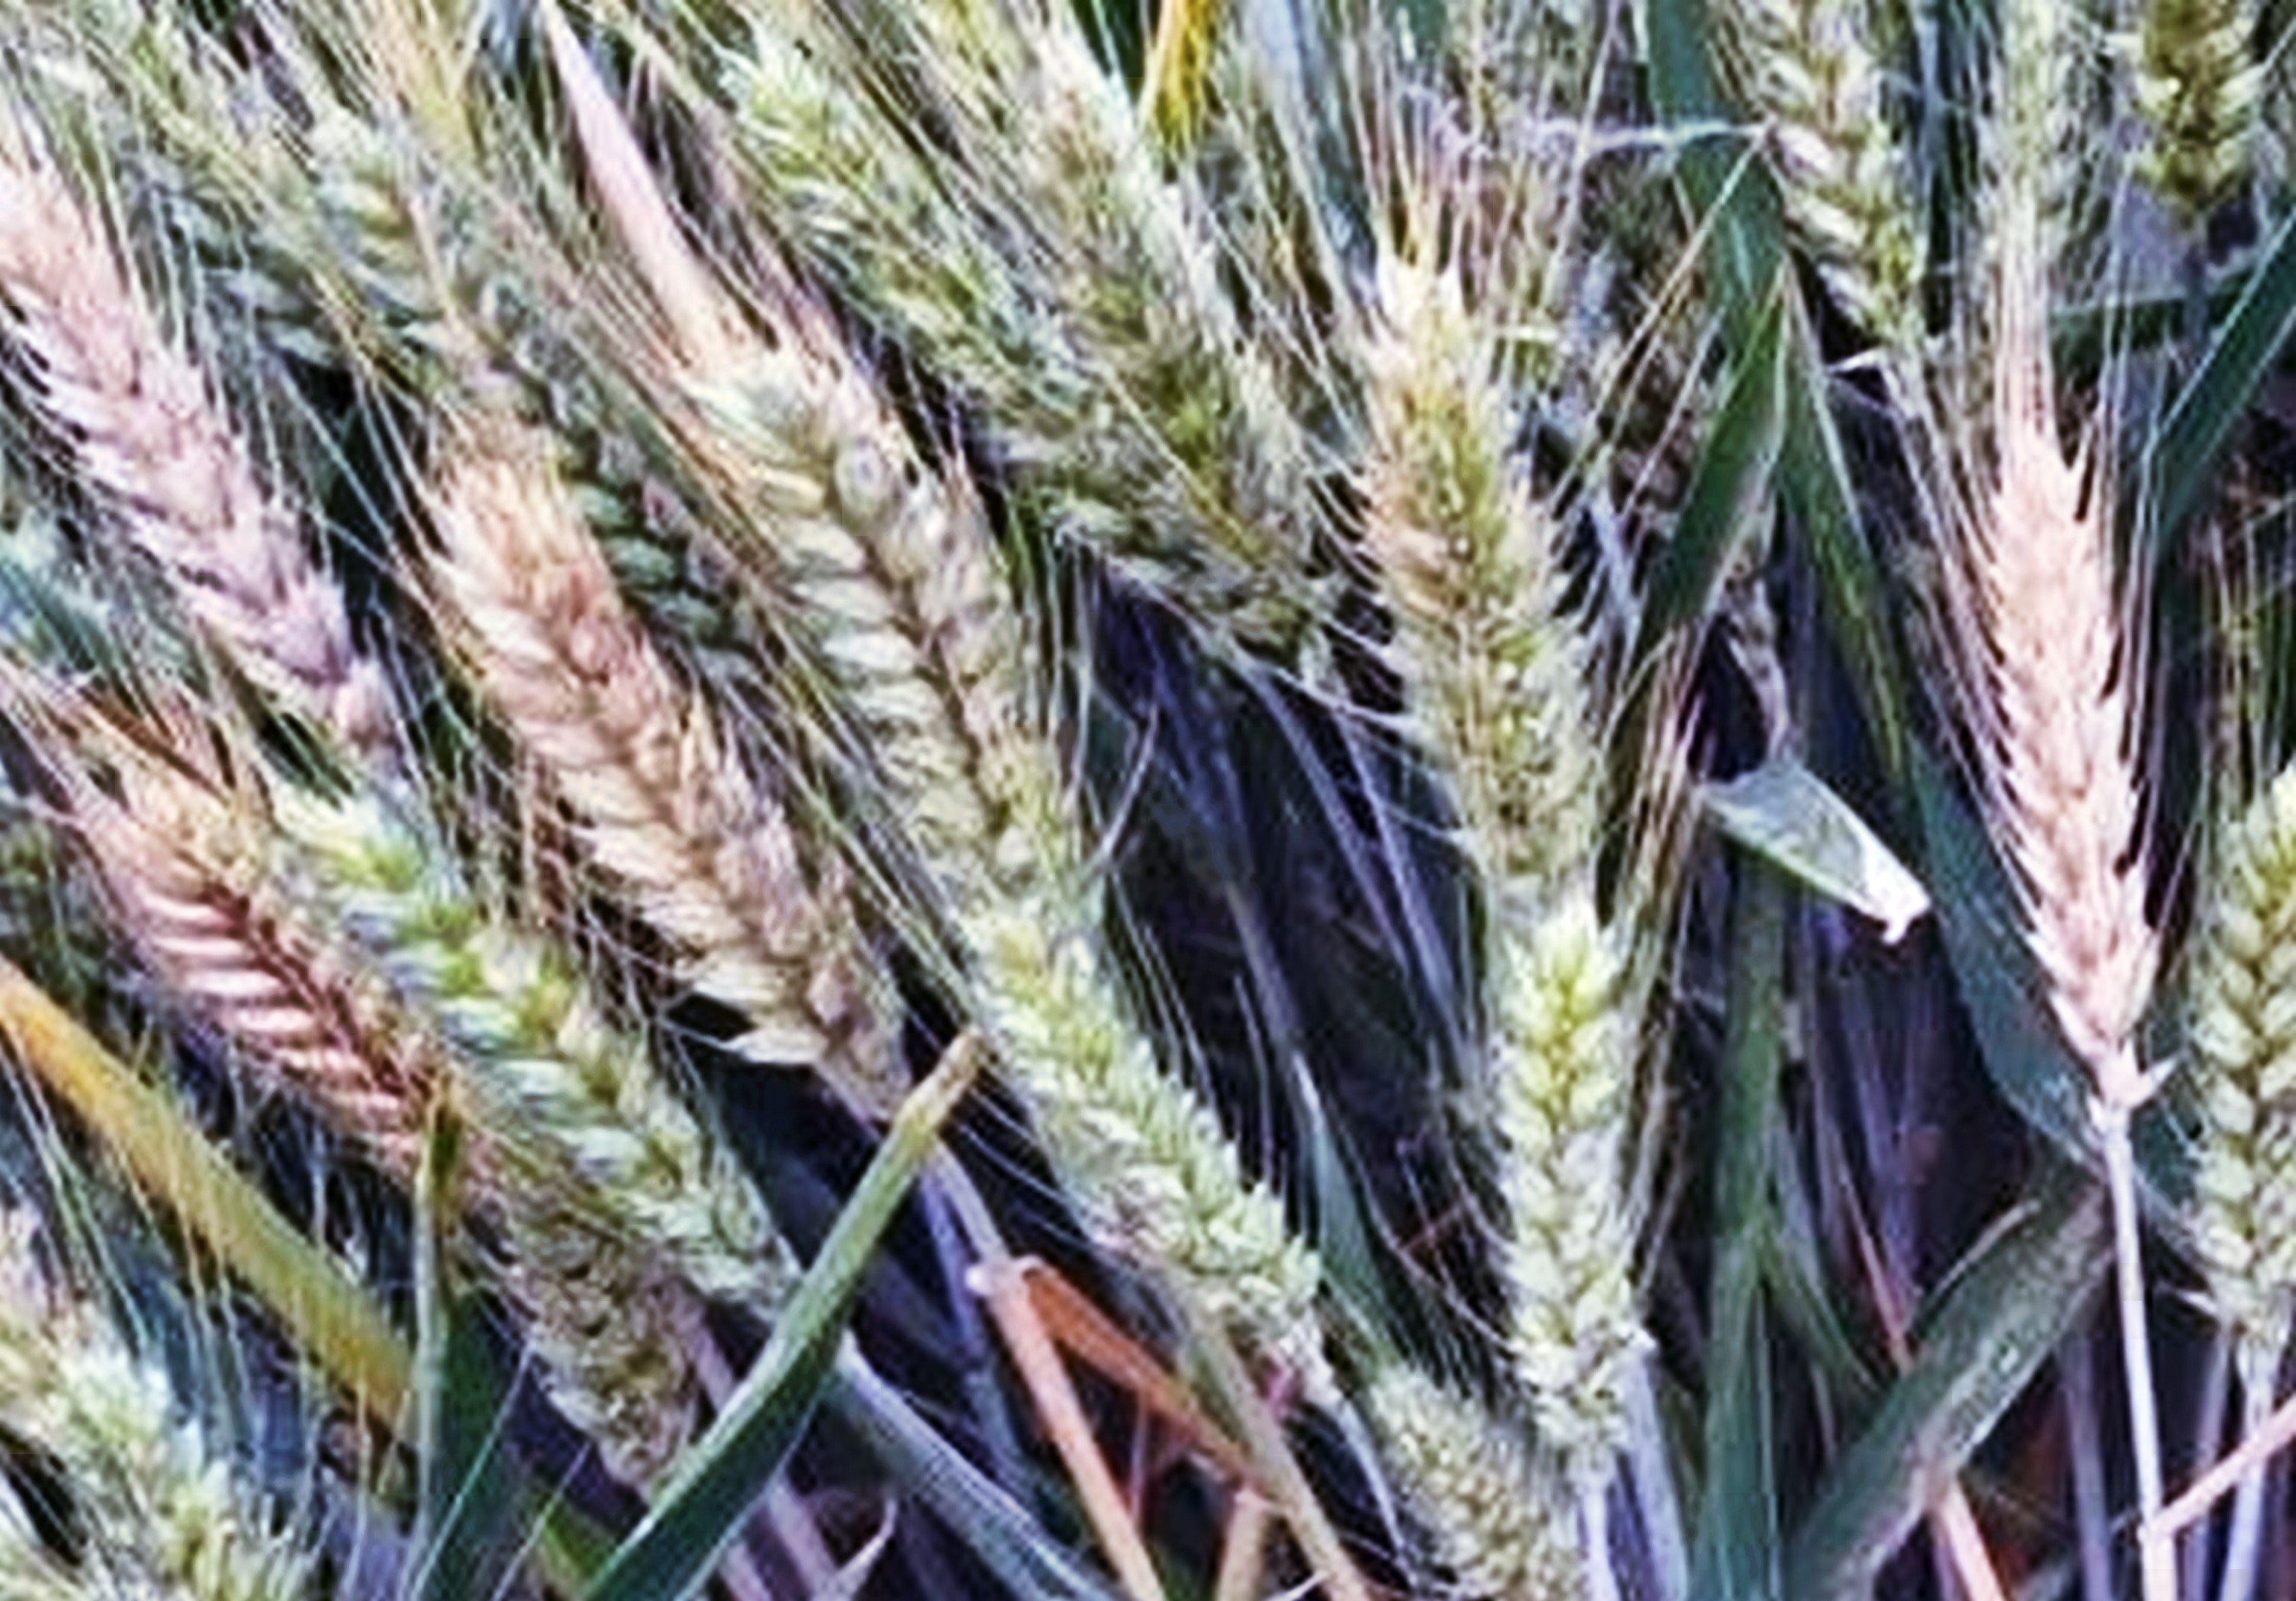Wheat scab: (1958, 396, 2200, 1092)
